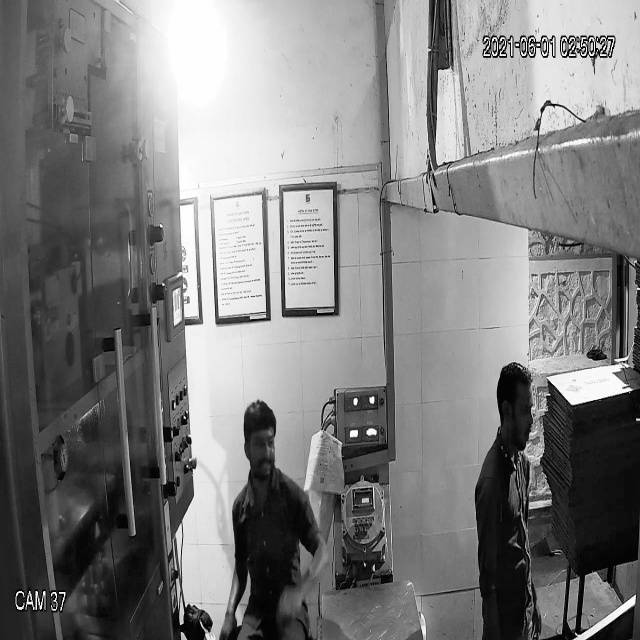Sin_gafas: (493, 387, 538, 428), (235, 431, 286, 464)
